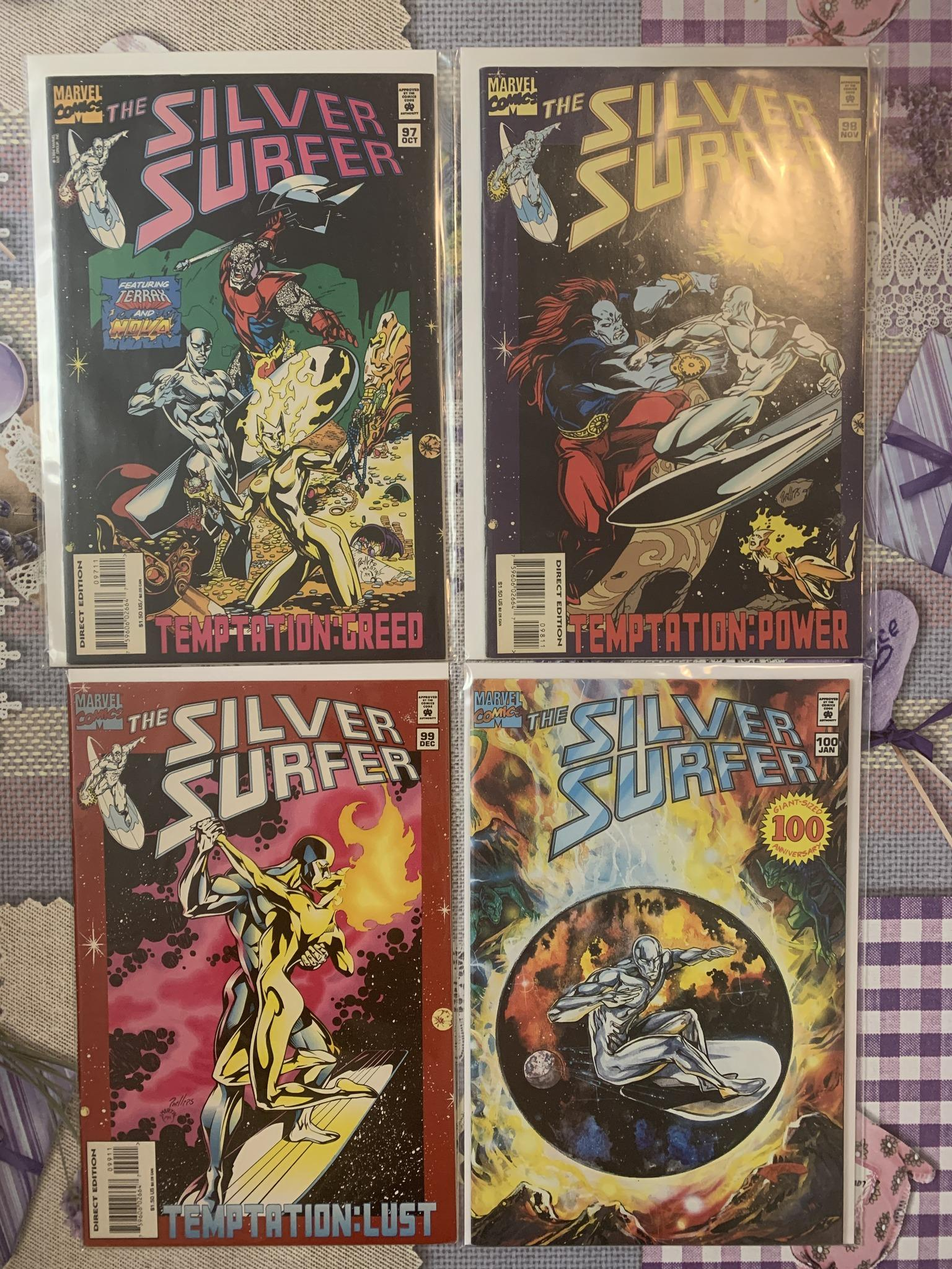comic: (30, 51, 446, 665), (457, 46, 870, 662), (68, 661, 463, 1255), (465, 662, 861, 1249)
